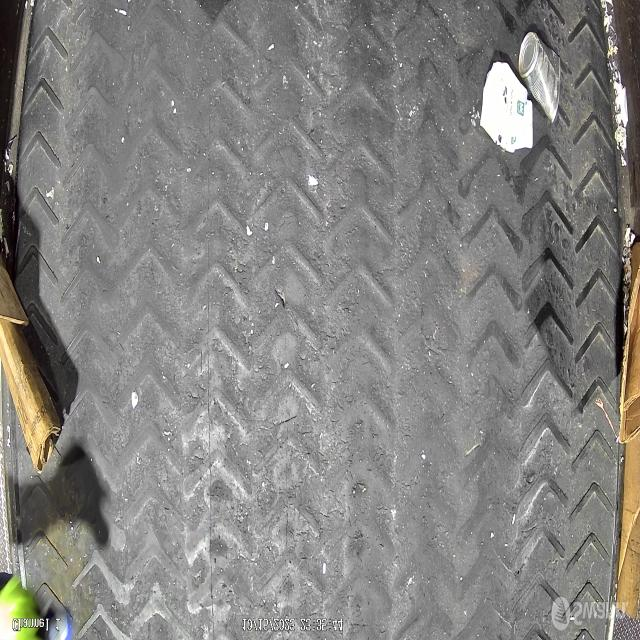can: (518, 30, 562, 124)
